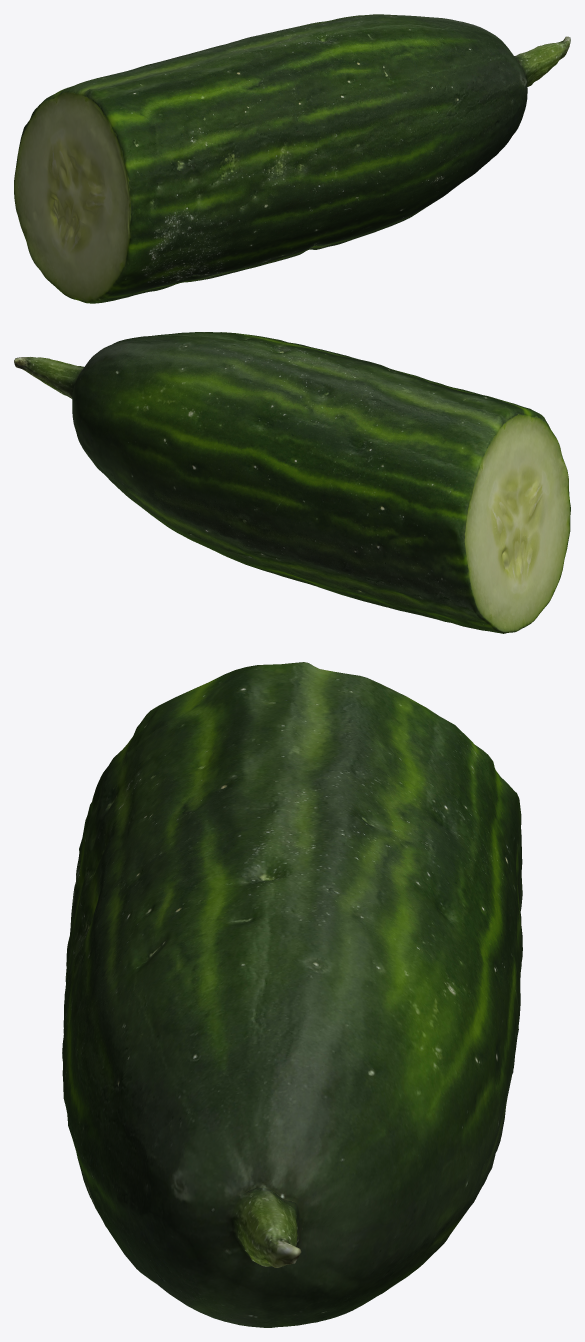
The model's file is cucumber.glb.
The picture shows the model from 3 angles, top to bottom: view 1: azimuth 30°, elevation 25°; view 2: azimuth 150°, elevation 25°; view 3: azimuth 270°, elevation 25°; orthographic projection. The views are drawn at different scales.
Parts seen in each view (by area): view 1: Object_2; view 2: Object_2; view 3: Object_2.
Boxes of the visible parts, x1,y1,x2,y2 form: Object_2: (14,14,570,303); Object_2: (14,332,570,633); Object_2: (62,662,522,1327).
Size of the model in its own units: 0.0748 by 0.029 by 0.0294.
Materials: 1 (1 with a texture image).
